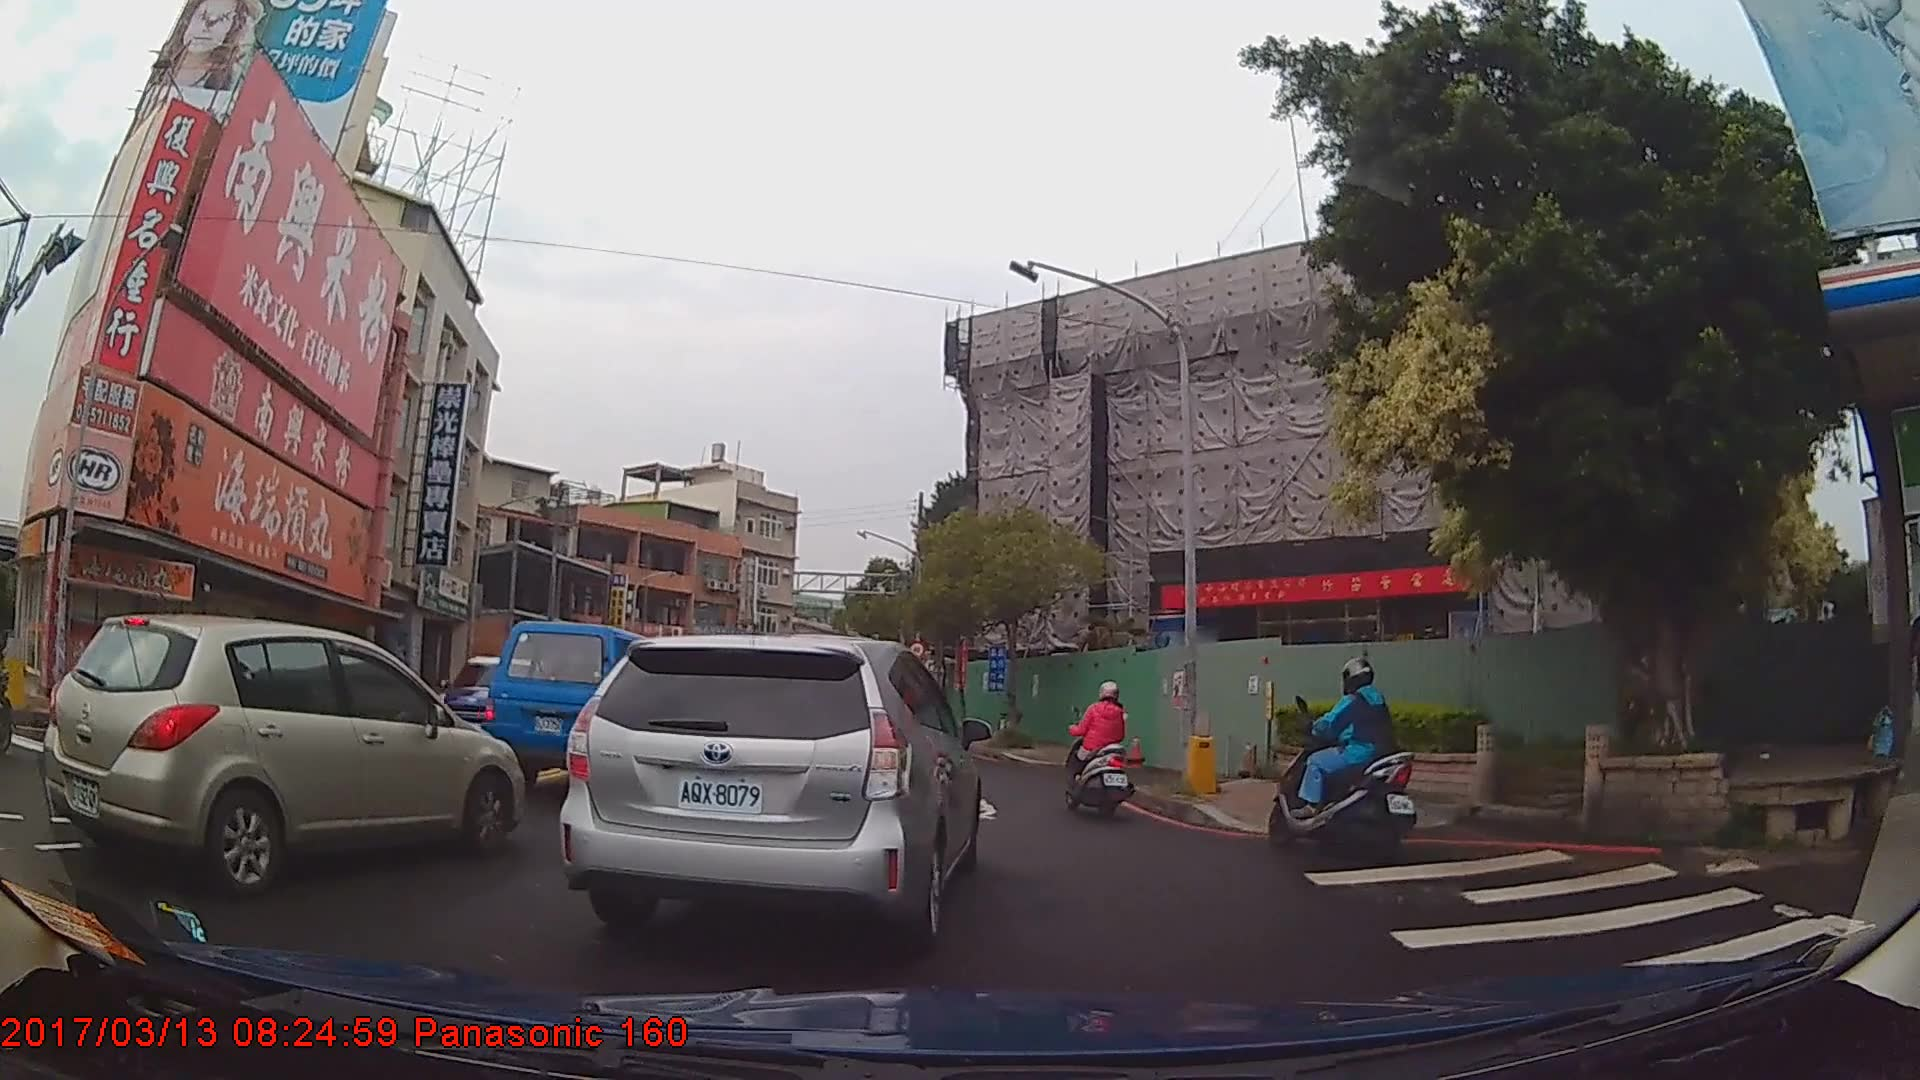rider: (1265, 664, 1417, 858), (1058, 677, 1133, 815)
vehicle: (39, 609, 524, 895), (554, 627, 983, 944), (482, 617, 665, 793), (424, 648, 555, 761)
